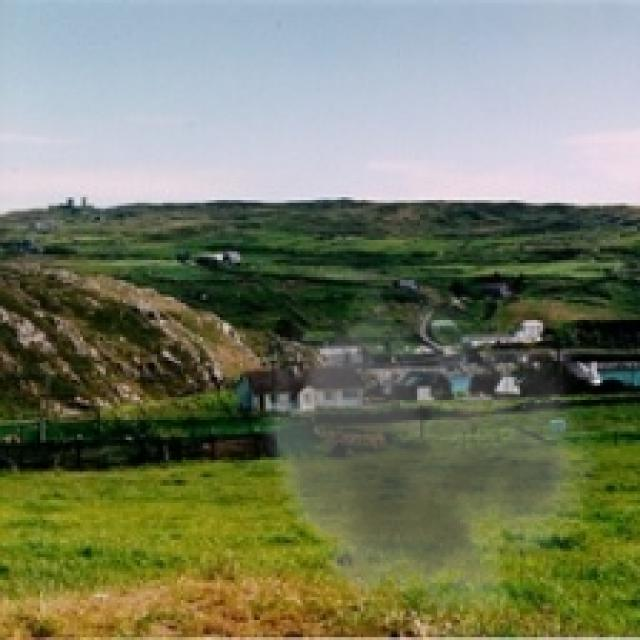Smoke: (248, 274, 598, 632)
